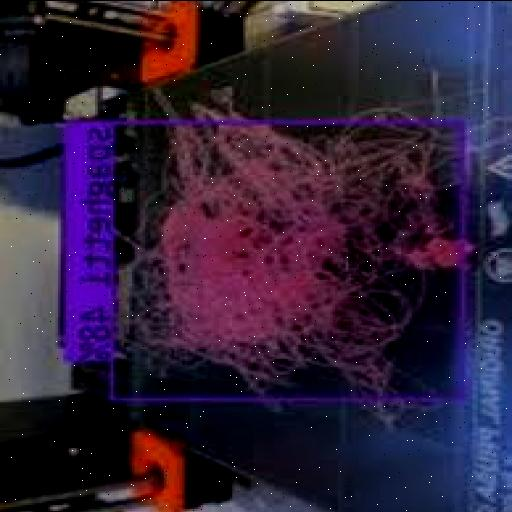spaghetti: (116, 122, 464, 398)
